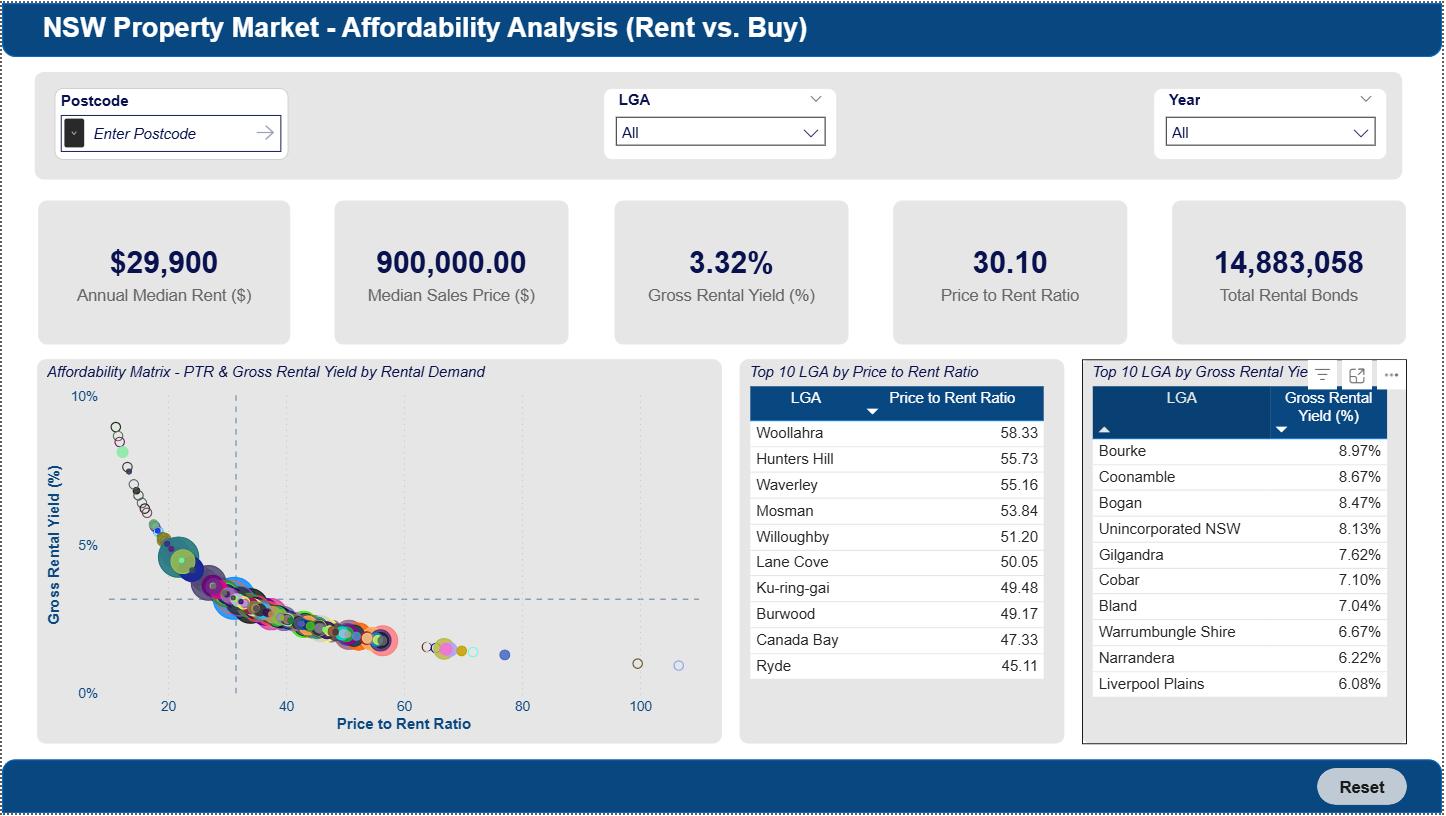

This screenshot's page, from the dashboard's own definition file:
{"tool":"powerbi","page":{"name":"Affordability Analysis","canvas":[1280,720],"ordinal":2},"visuals":[{"type":"shape","box":[28.4,61.3,1216,96],"z":0},{"type":"shape","box":[0,672,1280,48],"z":0,"group":"g1"},{"type":"shape","box":[0,0,1280,48],"z":1000,"group":"g1"},{"type":"textSlicer","fields":{"Values":["NSW_Property_Affordability_Merge.Postcode"]},"box":[46.9,75.7,208,64],"z":1000},{"type":"slicer","fields":{"Values":["NSW_Property_Affordability_Merge.postcode_to_lga.lga"]},"box":[534.9,75.7,208,64],"z":2000},{"type":"slicer","fields":{"Values":["NSW_Property_Affordability_Merge.Year"]},"box":[1022.9,75.7,208,64],"z":3000},{"type":"card","fields":{"Values":["Median(NSW_Property_Affordability_Merge.AnnualRent)"]},"box":[32,176,224,128],"z":4000},{"type":"card","fields":{"Values":["Median(NSW_Property_Affordability_Merge.Median Sales Price)"]},"box":[296,176,208,128],"z":5000},{"type":"card","fields":{"Values":["NSW_Property_Affordability_Merge.GrossRentY"]},"box":[544,176,208,128],"z":6000},{"type":"scatterChart","title":"Affordability Matrix - PTR & Gross Rental Yield by Rental Demand","fields":{"Y":["NSW_Property_Affordability_Merge.GrossRentY"],"X":["NSW_Property_Affordability_Merge.PTR"],"Category":["NSW_Property_Affordability_Merge.Postcode"],"Size":["Sum(NSW_Property_Affordability_Merge.NewBonds)"]},"box":[31.4,317.1,608.6,341.4],"z":7000},{"type":"card","fields":{"Values":["NSW_Property_Affordability_Merge.PTR"]},"box":[792,176,208,128],"z":8000},{"type":"card","fields":{"Values":["Sum(NSW_Property_Affordability_Merge.TotalBonds)"]},"box":[1040,176,208,128],"z":9000},{"type":"tableEx","title":"Top 10 LGA by Price to Rent Ratio","fields":{"Values":["NSW_Property_Affordability_Merge.postcode_to_lga.lga","NSW_Property_Affordability_Merge.PTR"]},"box":[655.7,317.1,288.6,341.4],"z":10000},{"type":"tableEx","title":"Top 10 LGA by Gross Rental Yield","fields":{"Values":["NSW_Property_Affordability_Merge.postcode_to_lga.lga","NSW_Property_Affordability_Merge.GrossRentY"]},"box":[960,317.1,288.6,341.4],"z":11000},{"type":"group","id":"g1","title":"Group 1","box":[0,0,1280,720],"z":12000},{"type":"actionButton","box":[1168.6,680,80,32.9],"z":15000,"group":"g1"},{"type":"textbox","box":[31.4,0,991.4,48.6],"z":16000,"group":"g1"}]}

Visuals, with their boxes in screenshot pixels (x1, y1, x2, y2), scaled from the page's 1280x720 canvas onto the 1446x816 screenshot:
shape: 32, 69, 1406, 178
shape: 0, 762, 1445, 815
shape: 0, 0, 1445, 54
textSlicer - NSW_Property_Affordability_Merge.Postcode: 53, 86, 288, 158
slicer - NSW_Property_Affordability_Merge.postcode_to_lga.lga: 604, 86, 839, 158
slicer - NSW_Property_Affordability_Merge.Year: 1156, 86, 1391, 158
card - Median(NSW_Property_Affordability_Merge.AnnualRent): 36, 199, 289, 345
card - Median(NSW_Property_Affordability_Merge.Median Sales Price): 334, 199, 569, 345
card - NSW_Property_Affordability_Merge.GrossRentY: 615, 199, 850, 345
"Affordability Matrix - PTR & Gross Rental Yield by Rental Demand" scatterChart: 35, 359, 723, 746
card - NSW_Property_Affordability_Merge.PTR: 895, 199, 1130, 345
card - Sum(NSW_Property_Affordability_Merge.TotalBonds): 1175, 199, 1410, 345
"Top 10 LGA by Price to Rent Ratio" tableEx: 741, 359, 1067, 746
"Top 10 LGA by Gross Rental Yield" tableEx: 1084, 359, 1411, 746
"Group 1" group: 0, 0, 1445, 815
actionButton: 1320, 771, 1411, 808
textbox: 35, 0, 1155, 55
